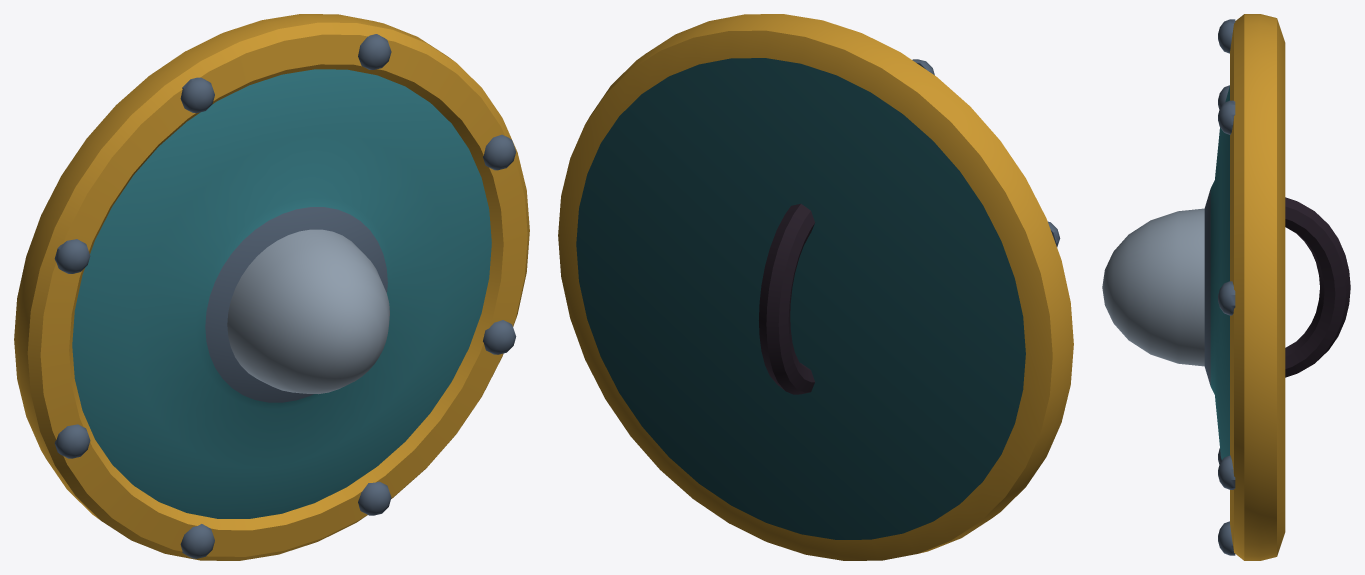
Rendered from RoundShield_22.glb.
3 renders of one model, left to right at view 1: azimuth 30°, elevation 25°; view 2: azimuth 150°, elevation 25°; view 3: azimuth 270°, elevation 25°, orthographic. The views are drawn at different scales.
Visible parts, largest first — view 1: RoundShield_22; view 2: RoundShield_22; view 3: RoundShield_22.
Part boxes in pixels (left/top/right/bottom): RoundShield_22: left=14, top=14, right=529, bottom=560; RoundShield_22: left=558, top=14, right=1073, bottom=560; RoundShield_22: left=1102, top=14, right=1350, bottom=560.
Size of the model in its own units: 2.67 by 2.67 by 1.21.
